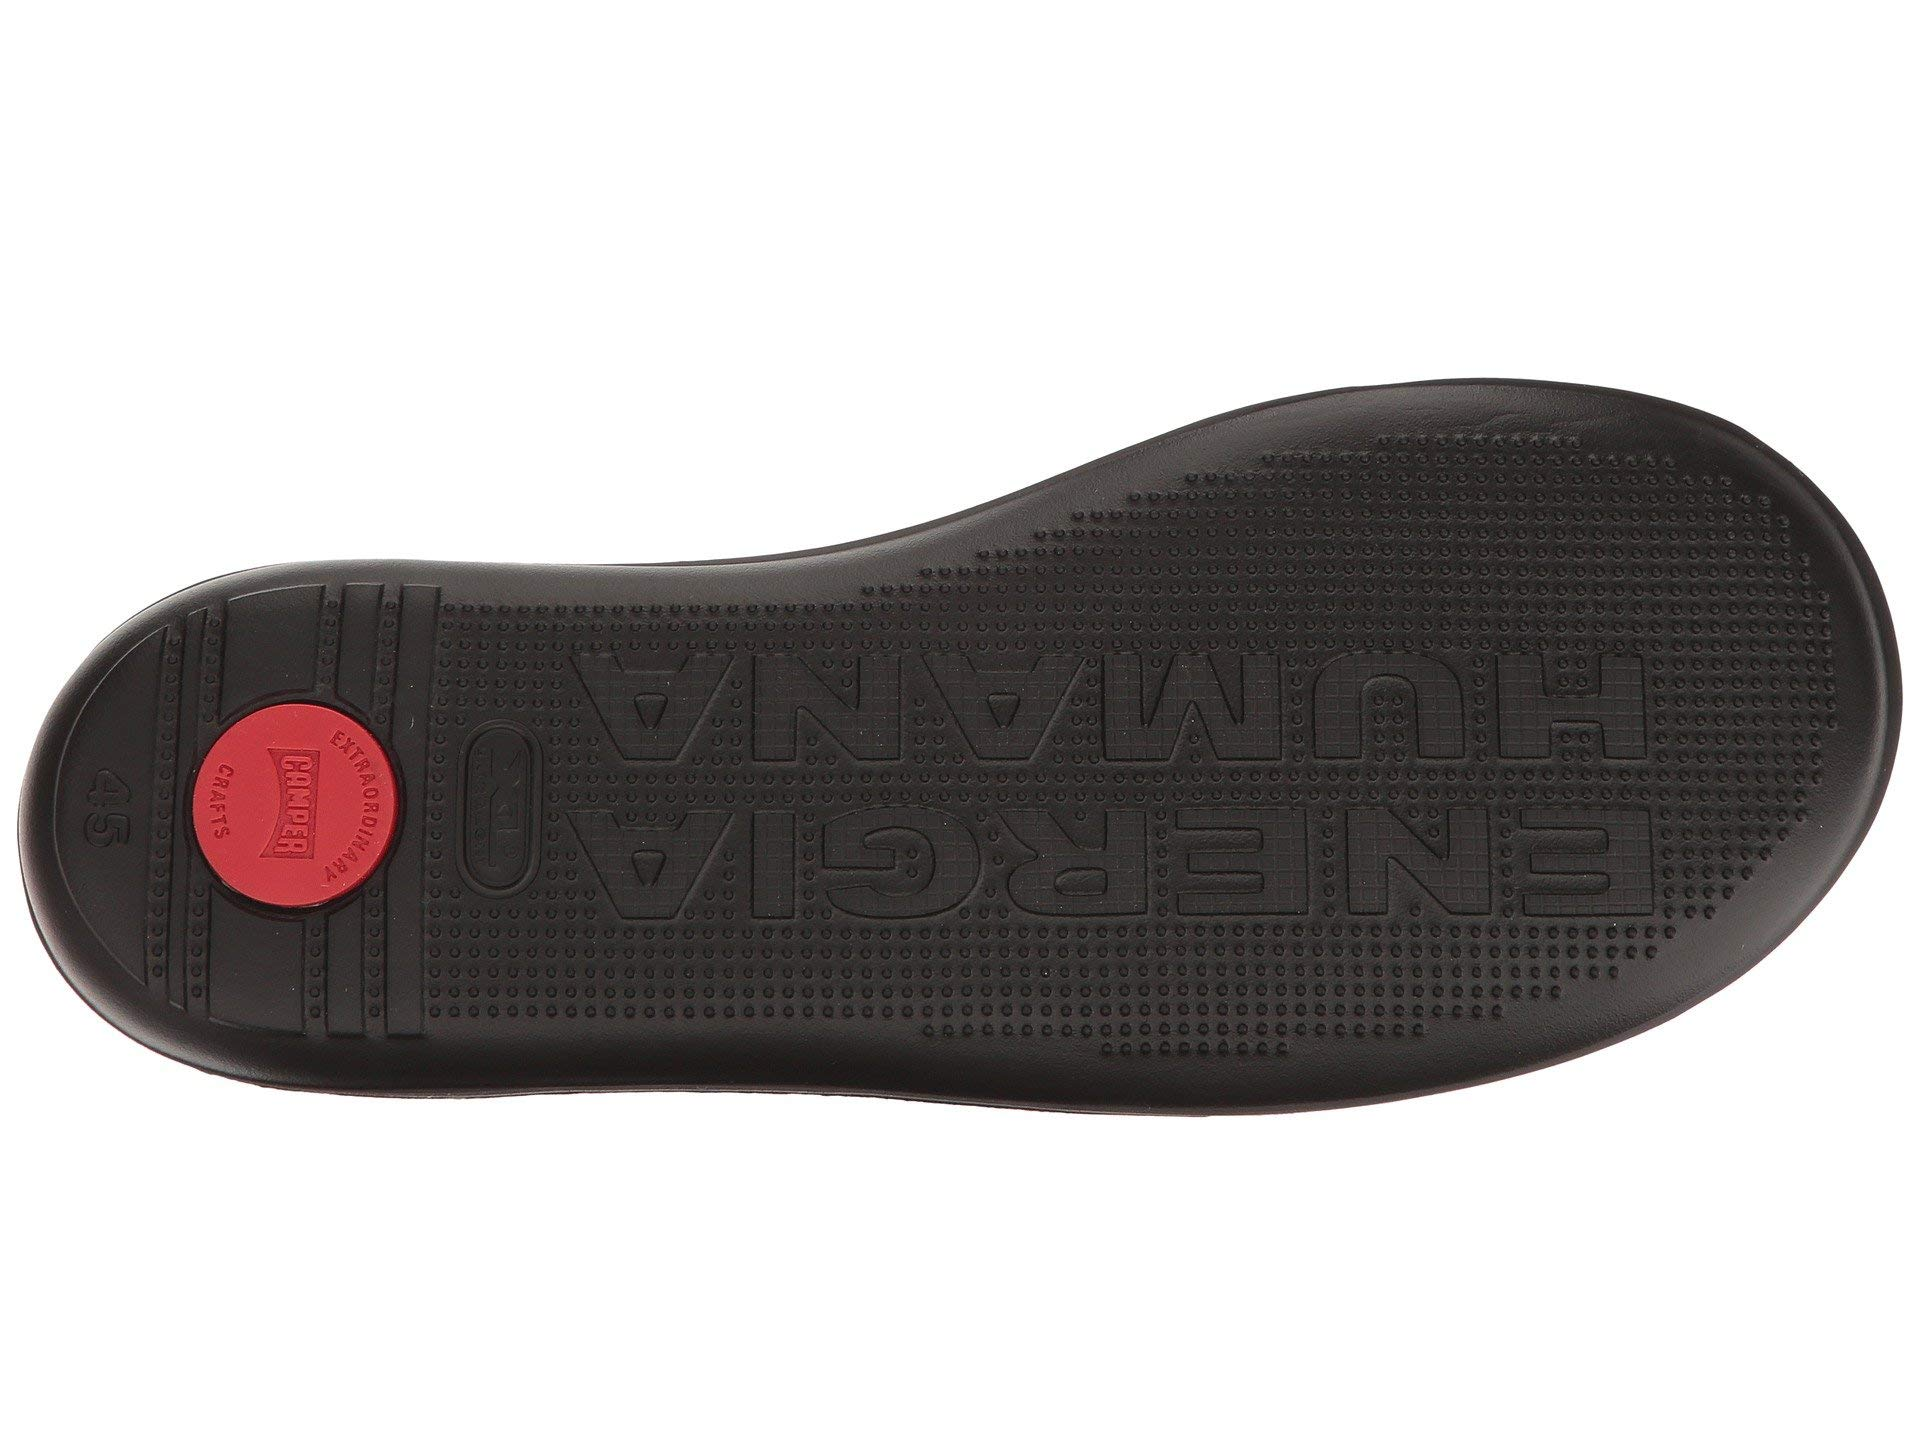circle: (1120, 538, 1668, 989), (531, 597, 1017, 989), (107, 700, 472, 985)
line: (107, 700, 472, 985)
text: (1120, 538, 1668, 989), (531, 597, 1017, 989), (107, 700, 472, 985)
